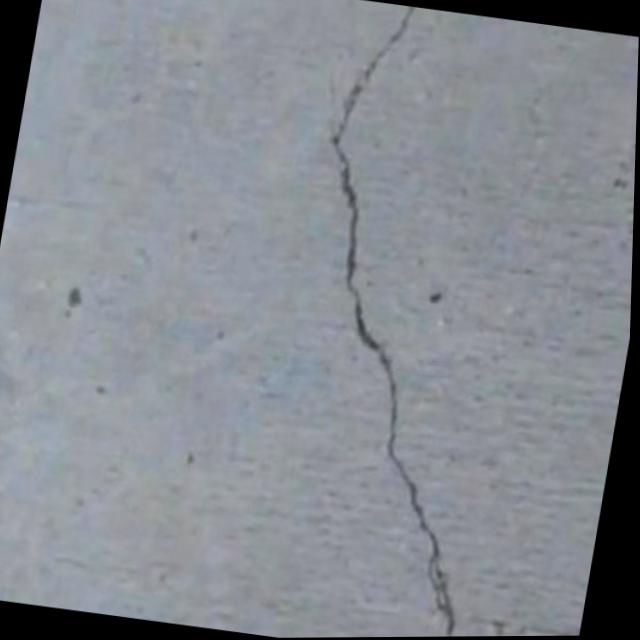Crack: (237, 0, 581, 639)
